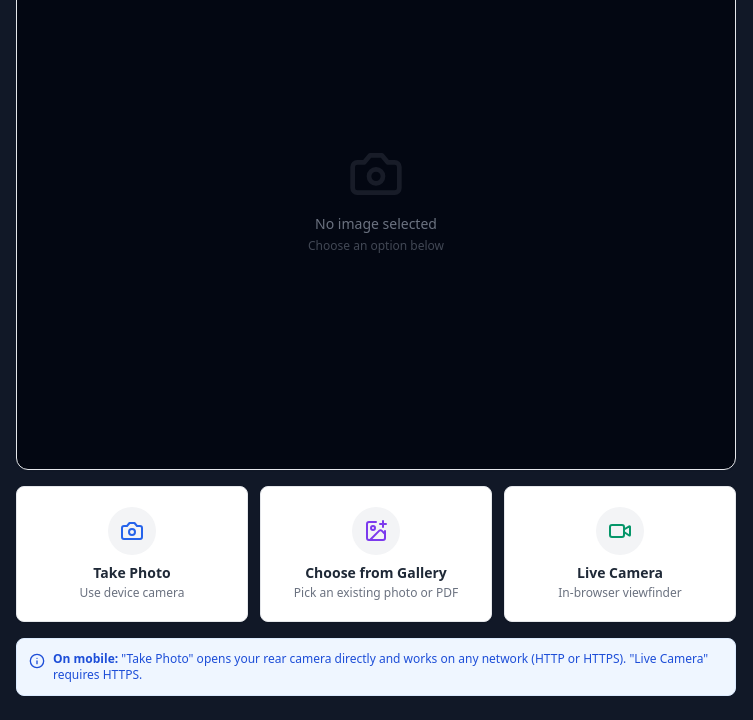
CameraCapturePage › shows live camera error when getUserMedia is denied
(page scrolled)
Click the text "Live Camera" at (620, 572), box [577,563,663,582]
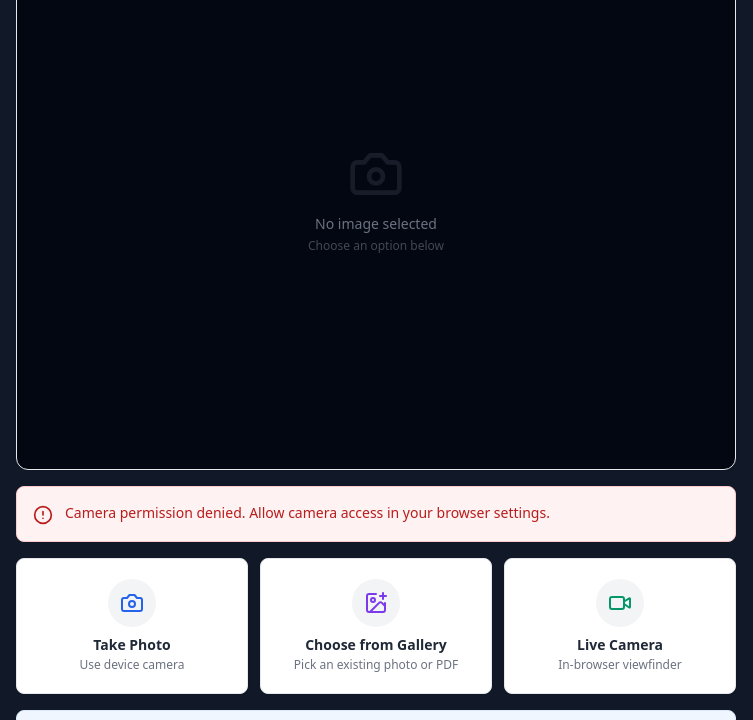
Now the text "Camera permission denied" is shown, box [65,503,550,522]
